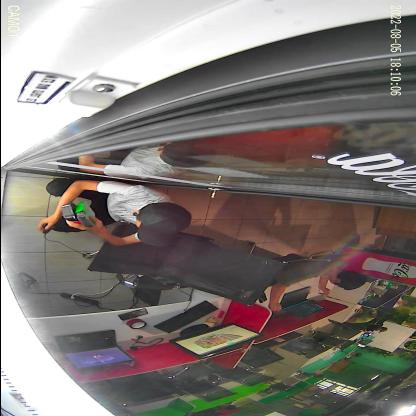green: (74, 201, 94, 227)
red: (61, 202, 81, 225)
